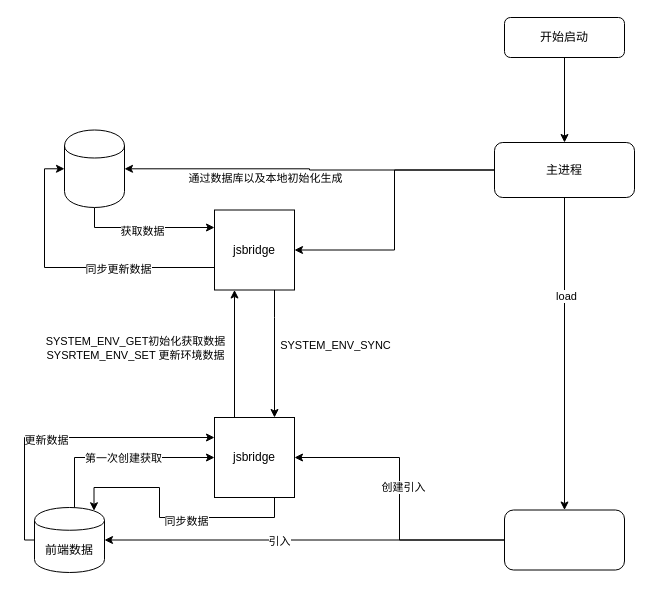
Some shapes in this 652 by 590 pixel diagram are drawn without their labels. Each missing label, with the box of its shape:
后端数据: (64, 129, 124, 208)
渲染进程: (504, 509, 624, 570)
